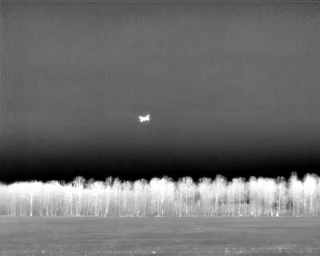DRONE: (134, 109, 155, 127)
